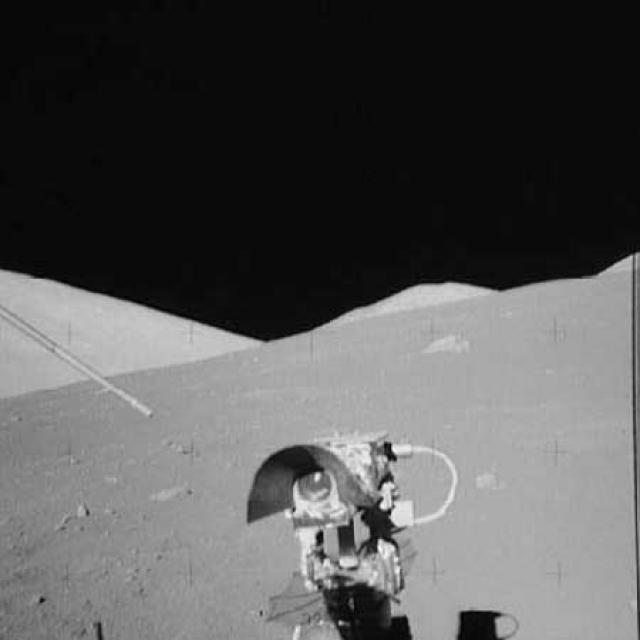artifact: (232, 422, 472, 638), (0, 304, 161, 440)
rock: (138, 472, 198, 510), (416, 325, 471, 363), (472, 462, 520, 498)
